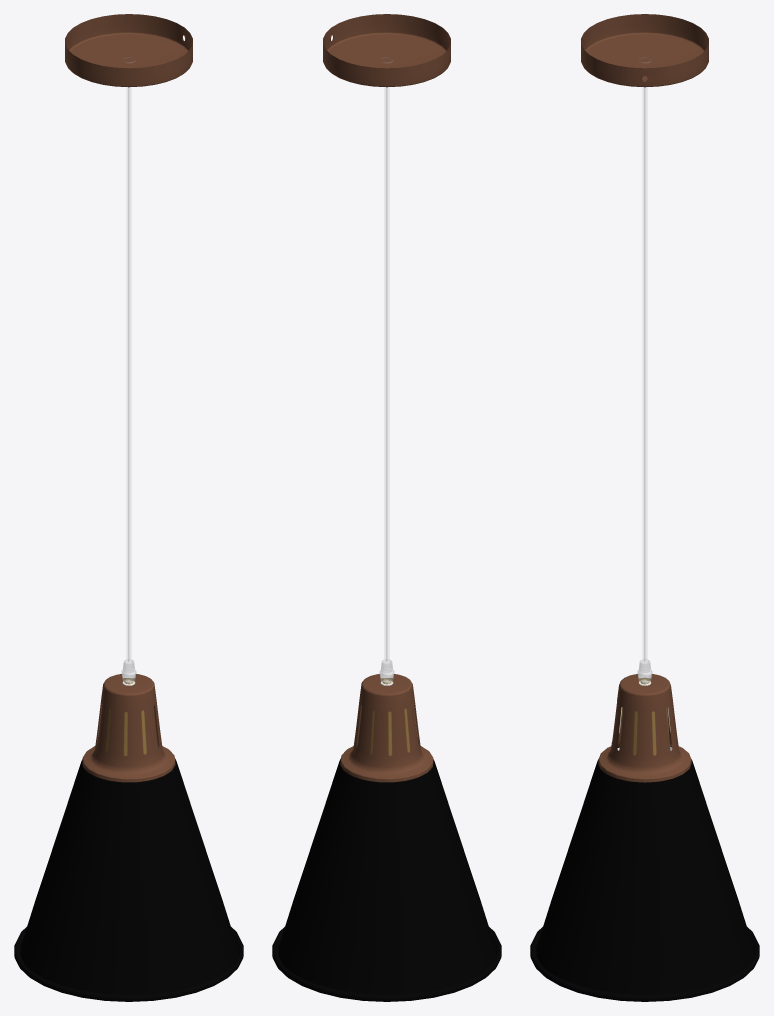
Rendered from lampara_de_techo_moon_metal_negro.glb.
The picture shows the model from 3 angles, left to right: view 1: azimuth 30°, elevation 25°; view 2: azimuth 150°, elevation 25°; view 3: azimuth 270°, elevation 25°; orthographic projection.
Parts seen in each view (by area): view 1: LAMPARA_DE_TECHO_MOON_METAL_BLANCO (×5); view 2: LAMPARA_DE_TECHO_MOON_METAL_BLANCO (×5); view 3: LAMPARA_DE_TECHO_MOON_METAL_BLANCO (×5).
Part boxes in pixels (left/top/right/bottom): LAMPARA_DE_TECHO_MOON_METAL_BLANCO (×5): left=14, top=14, right=243, bottom=1001; LAMPARA_DE_TECHO_MOON_METAL_BLANCO (×5): left=272, top=14, right=501, bottom=1001; LAMPARA_DE_TECHO_MOON_METAL_BLANCO (×5): left=530, top=14, right=759, bottom=1001.
Size of the model in its own units: 0.4578 by 2 by 0.4553.
13 materials, 13 textured.
